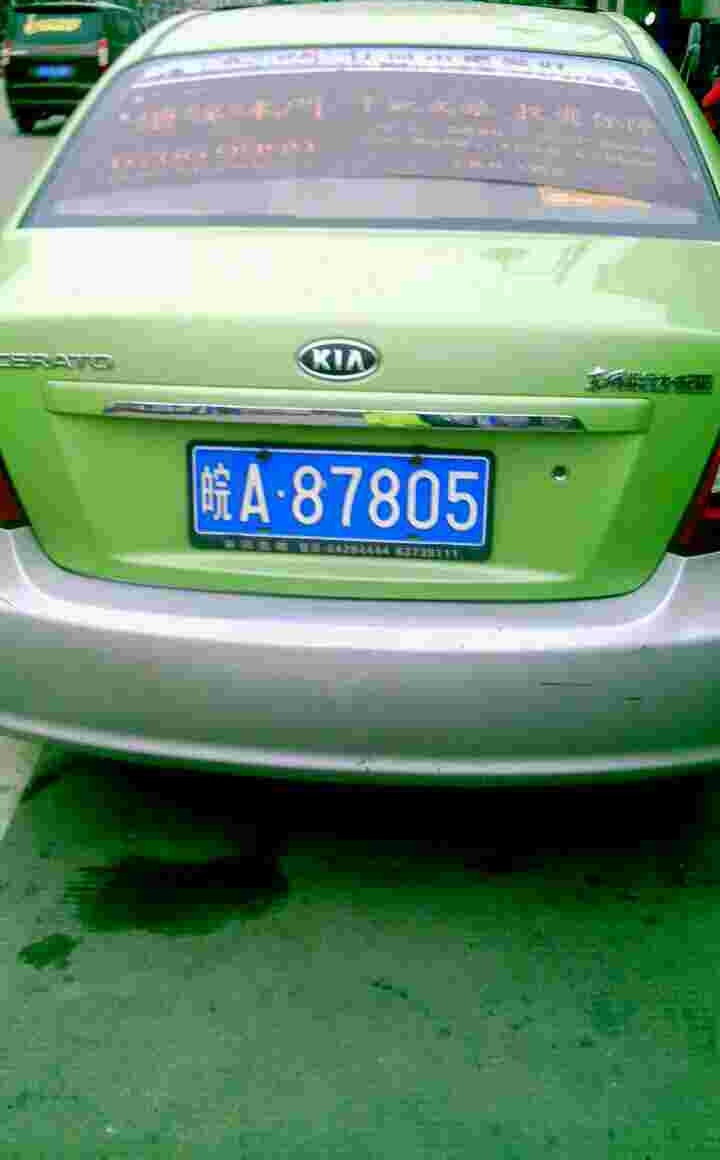license_plate: (194, 446, 497, 552)
